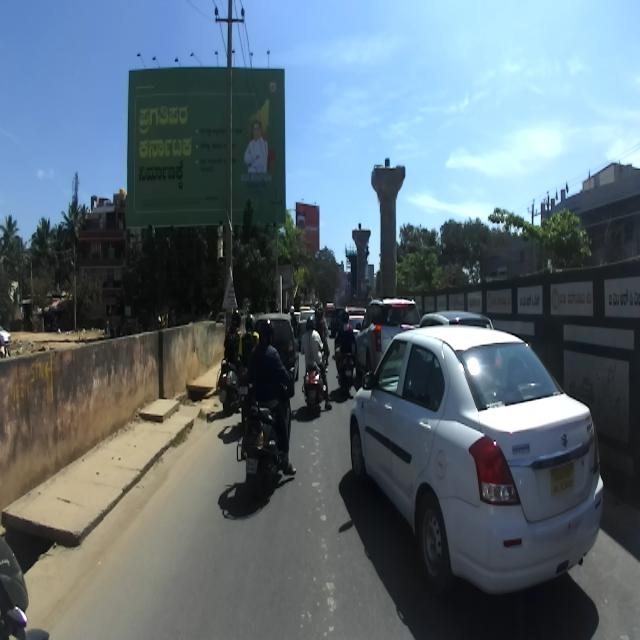car ahead at: (357, 324, 608, 617)
